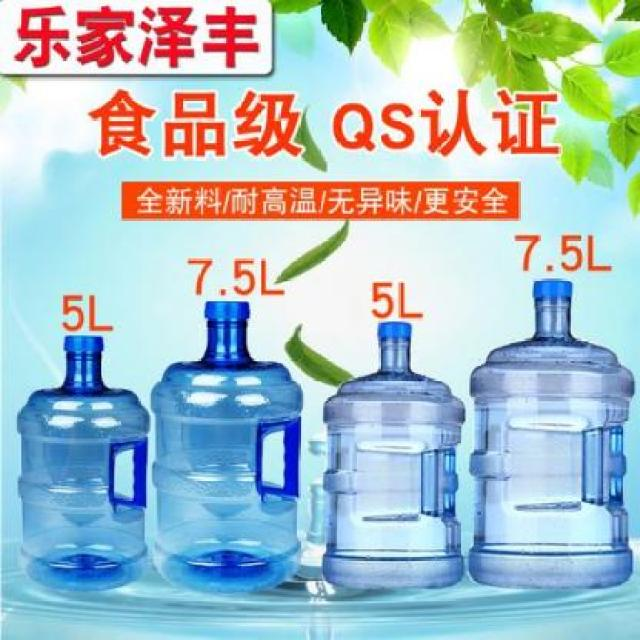coolerbottle: (465, 276, 639, 590), (149, 295, 308, 601), (317, 314, 467, 594), (14, 331, 150, 595)
